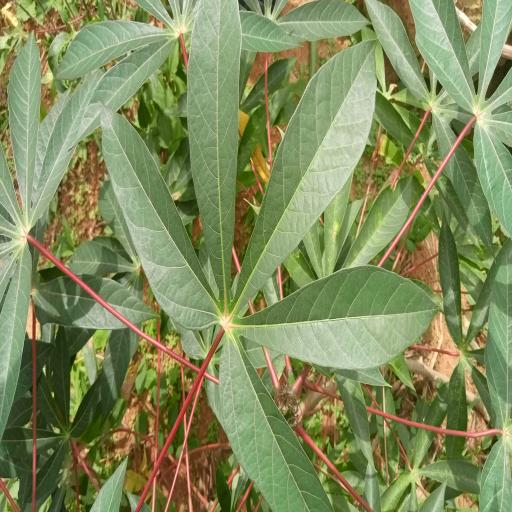Cassava_Healthy: (99, 0, 441, 512)
